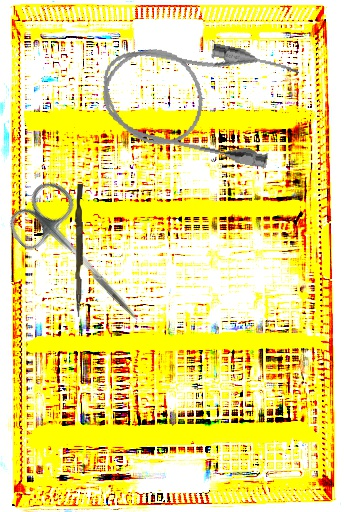Cannula: (91, 23, 302, 172)
Iris Scissors: (0, 174, 165, 342)
Pusher: (73, 183, 86, 318)
